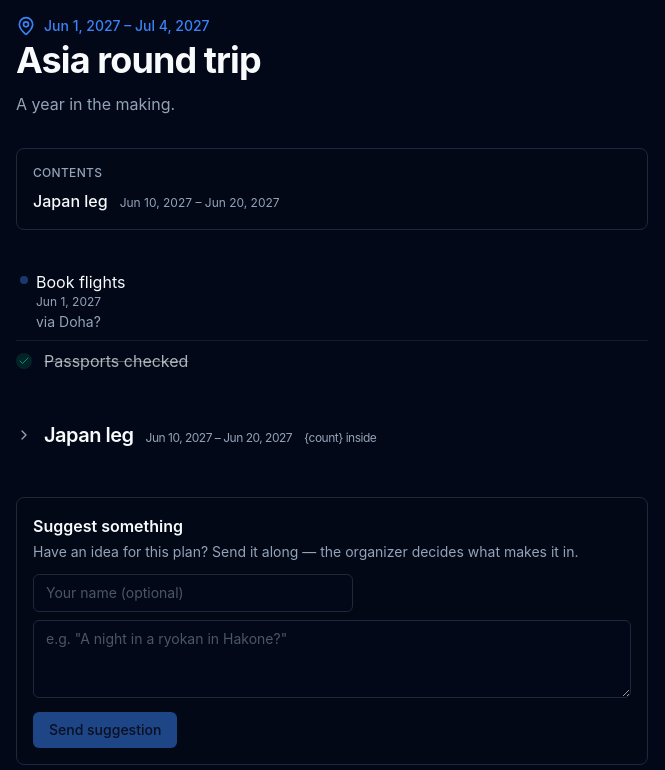
Test: GuestSharePage (#761) › the suggestion box captures: name + text → RPC → thanks; failure is quiet (#796)
Check: the heading "Asia round trip" is shown, box [16,38,261,82]
Check: the button "Send suggestion" is disabled, box [33,712,177,748]
Type "Anna" into the field labelled "Your name (optional)". click: coordinates (193, 593)
box: [33,574,353,612]
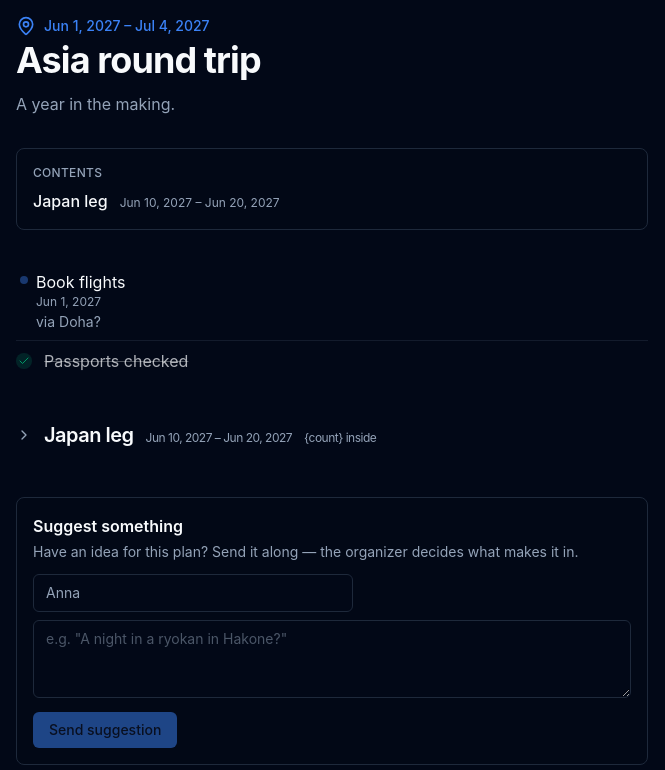
Type "Ryokan night in Hakone?" into the text box named "Your suggestion". click: coordinates (332, 659)
box: [33,620,631,698]
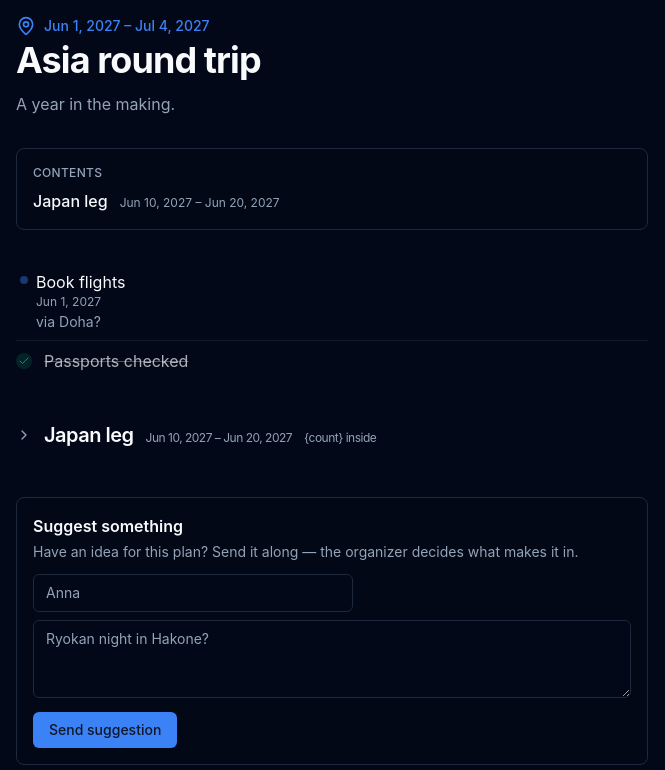
Click the button "Send suggestion". click: coordinates (105, 730)
box: [33,712,177,748]
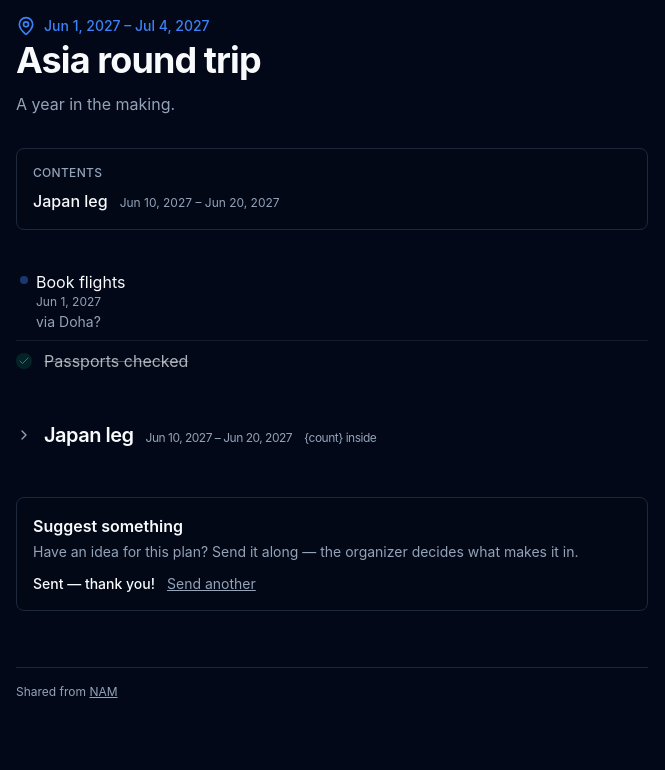
Check: the text "Sent — thank you!" is shown, box [33,574,155,594]
Note: Send another resets the text, keeps the name.
Click the button "Send another". click: coordinates (211, 584)
box: [167,574,256,594]
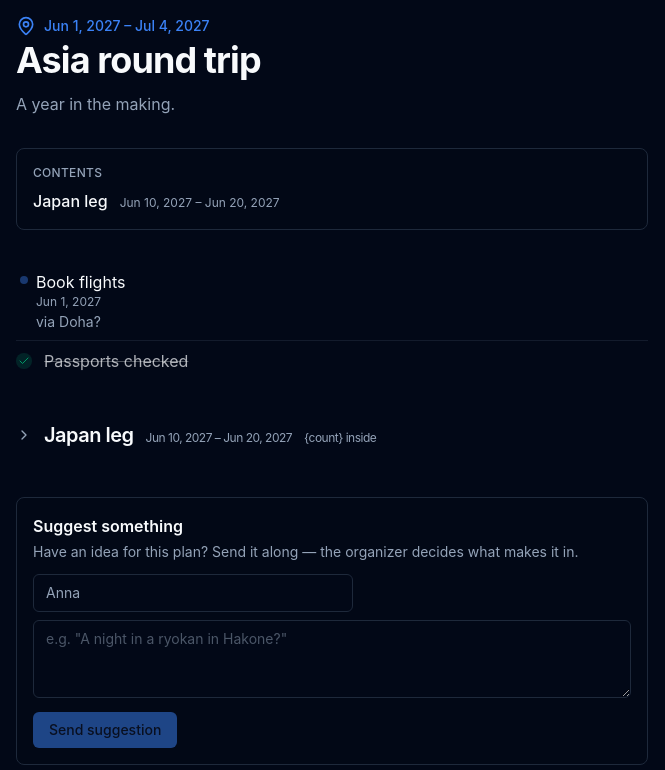
Check: the text box named "Your suggestion" is empty
Check: the field named "Your name (optional)" holds "Anna", box [33,574,353,612]
Type "Another idea" into the text box named "Your suggestion". click: coordinates (332, 659)
box: [33,620,631,698]
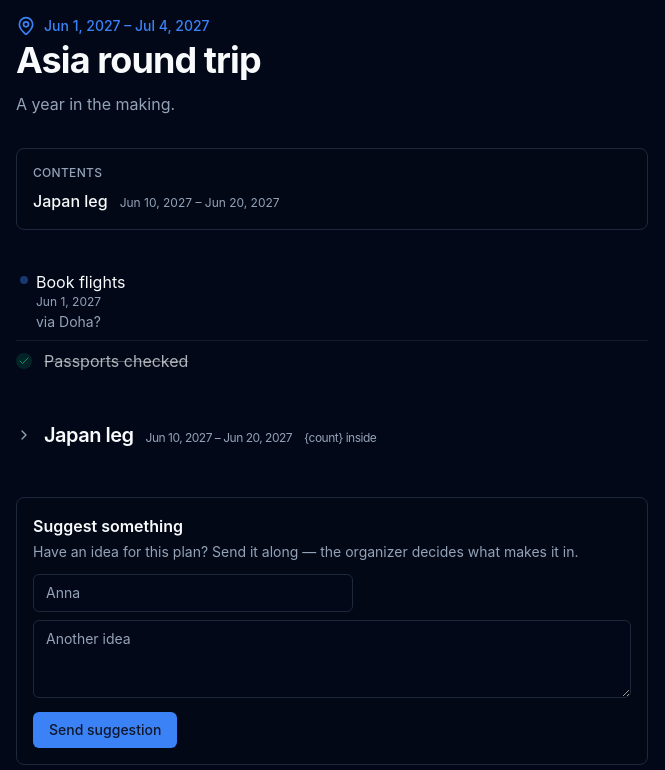
Click the button "Send suggestion". click: coordinates (105, 730)
box: [33,712,177,748]
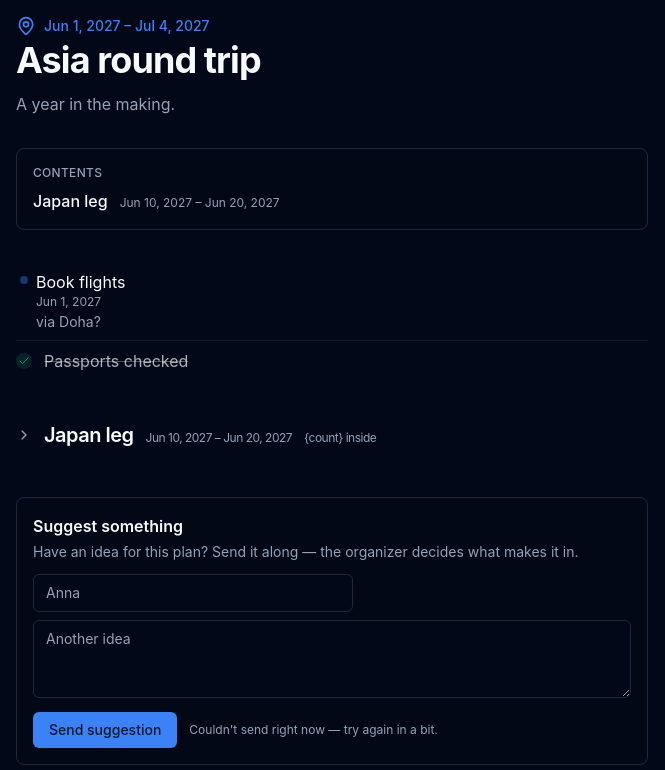
Check: the text "Couldn't send right now — try again in a bit." is shown, box [189,722,438,738]
